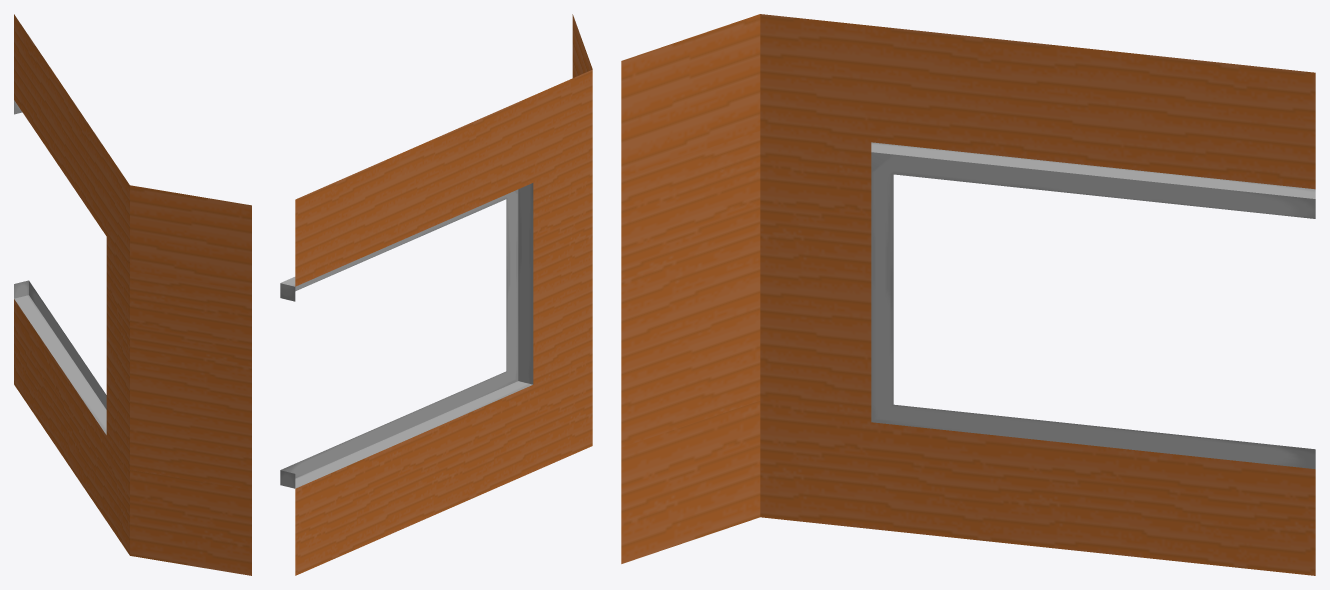
File: titan-doorframe.obj
3 renders of one model, left to right at view 1: azimuth 30°, elevation 25°; view 2: azimuth 150°, elevation 25°; view 3: azimuth 270°, elevation 25°, orthographic. The views are drawn at different scales.
Parts seen in each view (by area): view 1: Plane; view 2: Plane; view 3: Plane.
Boxes of the visible parts, x1,y1,x2,y2 form: Plane: (14, 14, 251, 575); Plane: (280, 14, 592, 575); Plane: (621, 14, 1315, 575).
Size of the model in its own units: 0.5838 by 2 by 2.5.
Materials: 1 (1 with a texture image).
